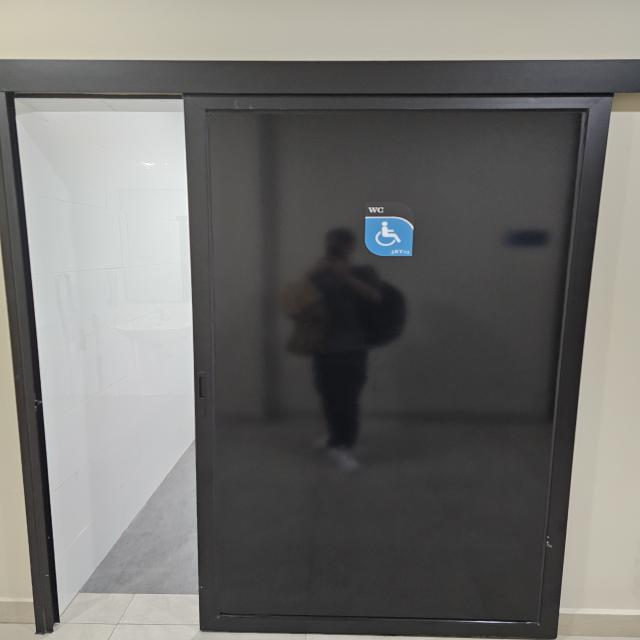door: (0, 58, 640, 637)
